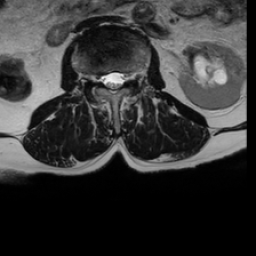CCS_normal: (109, 62, 117, 99)
LFS_normal: (125, 62, 133, 88)
LLS_normal: (117, 62, 125, 94)
RFS_normal: (93, 65, 101, 89)
RLS_normal: (101, 65, 109, 92)
